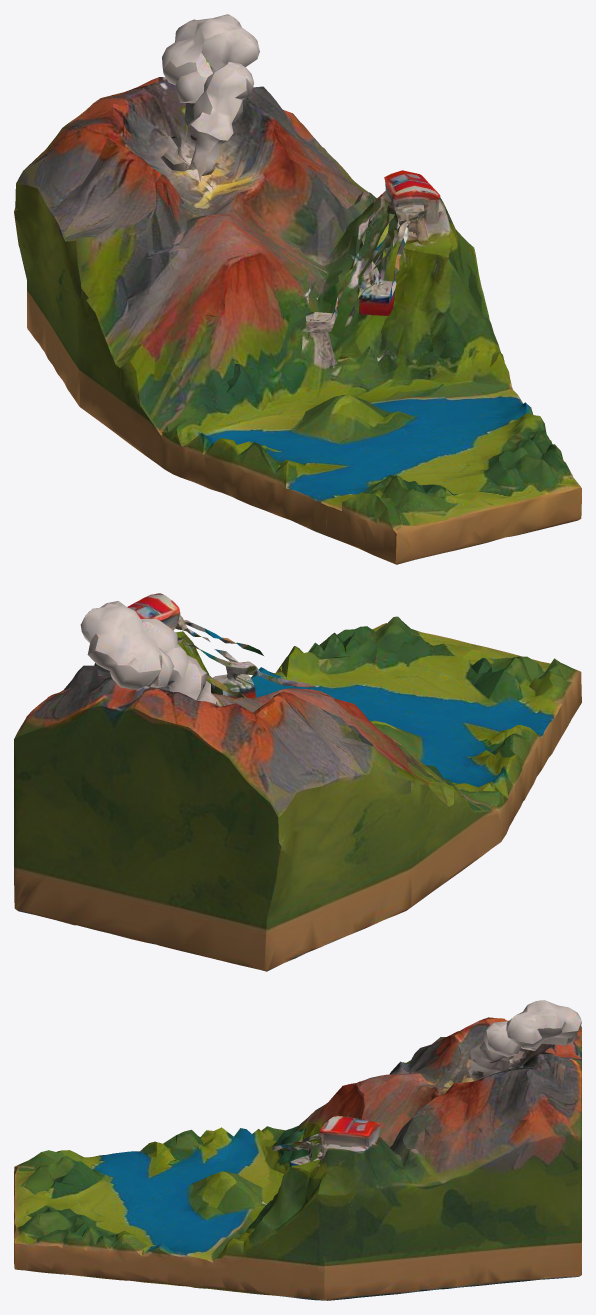
Rendered from mount-usu.glb.
3 views of the same model, one above another, from view 1: azimuth 30°, elevation 25°; view 2: azimuth 150°, elevation 25°; view 3: azimuth 270°, elevation 25° (orthographic). The views are drawn at different scales.
Visible parts, largest first — view 1: logan-textured.obj; view 2: logan-textured.obj; view 3: logan-textured.obj.
Part boxes in pixels (x1=…): logan-textured.obj: x1=14, y1=14, x2=581, y2=564; logan-textured.obj: x1=14, y1=593, x2=581, y2=971; logan-textured.obj: x1=14, y1=1000, x2=581, y2=1300.
Size of the model in its own units: 0.5888 by 0.4771 by 1.
Materials: 1 (1 with a texture image).
